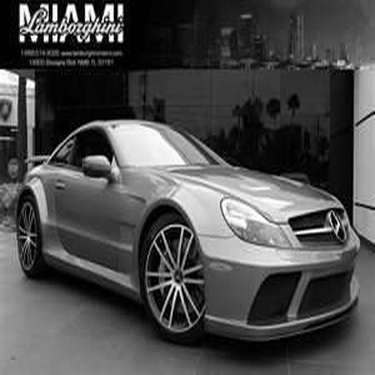car: (12, 106, 371, 357)
